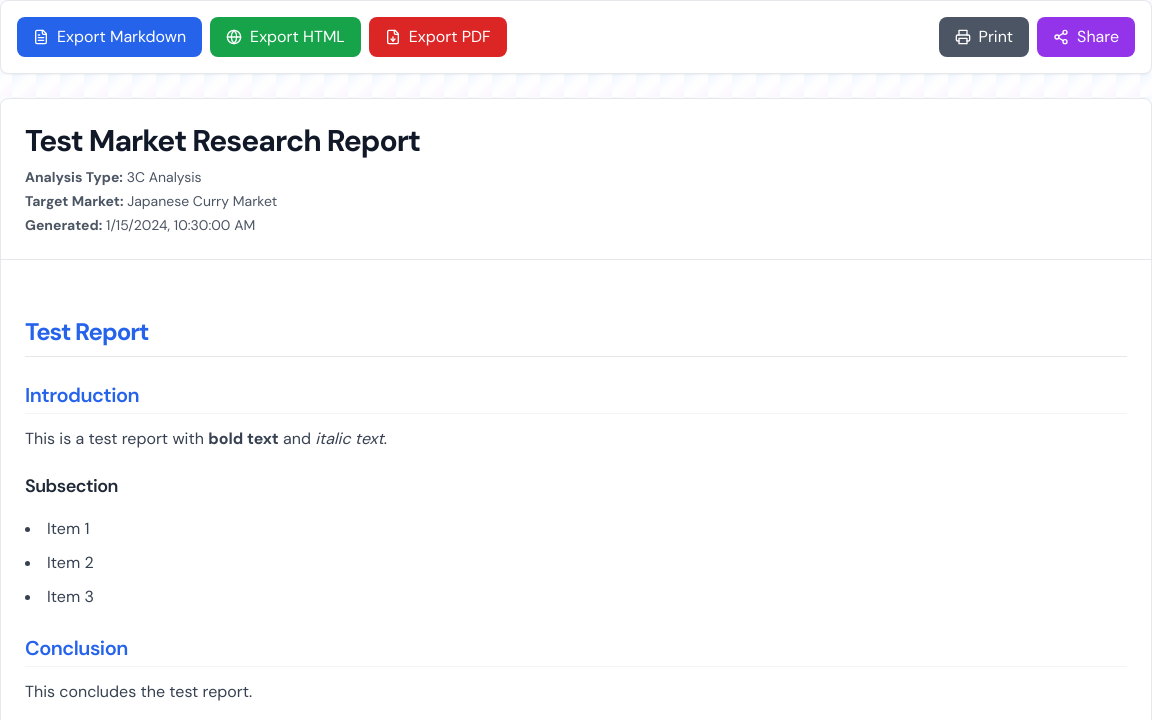
Scenario: ReportViewer › closes share modal when close button is clicked
Click the button "Share": (1086, 37) top-left (1037, 17), bottom-right (1135, 57)
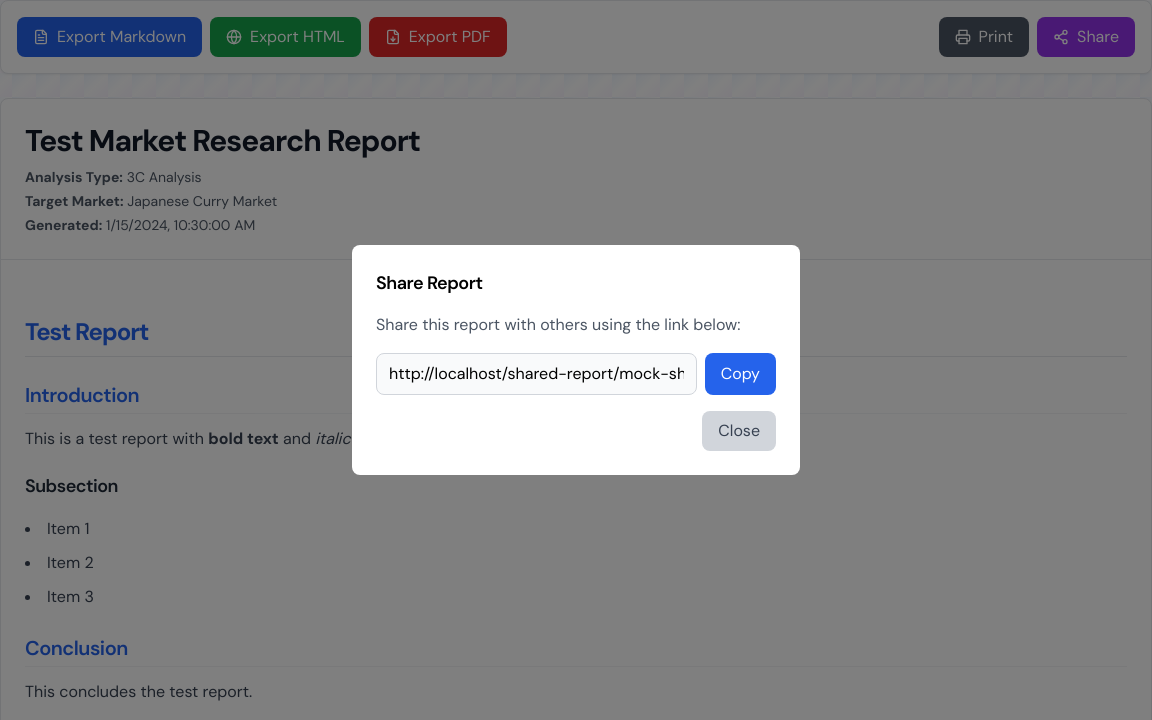
Expected: the heading "Share Report" is shown, top-left (376, 271), bottom-right (482, 295)
Click the button "Close": (739, 431) top-left (702, 411), bottom-right (776, 451)
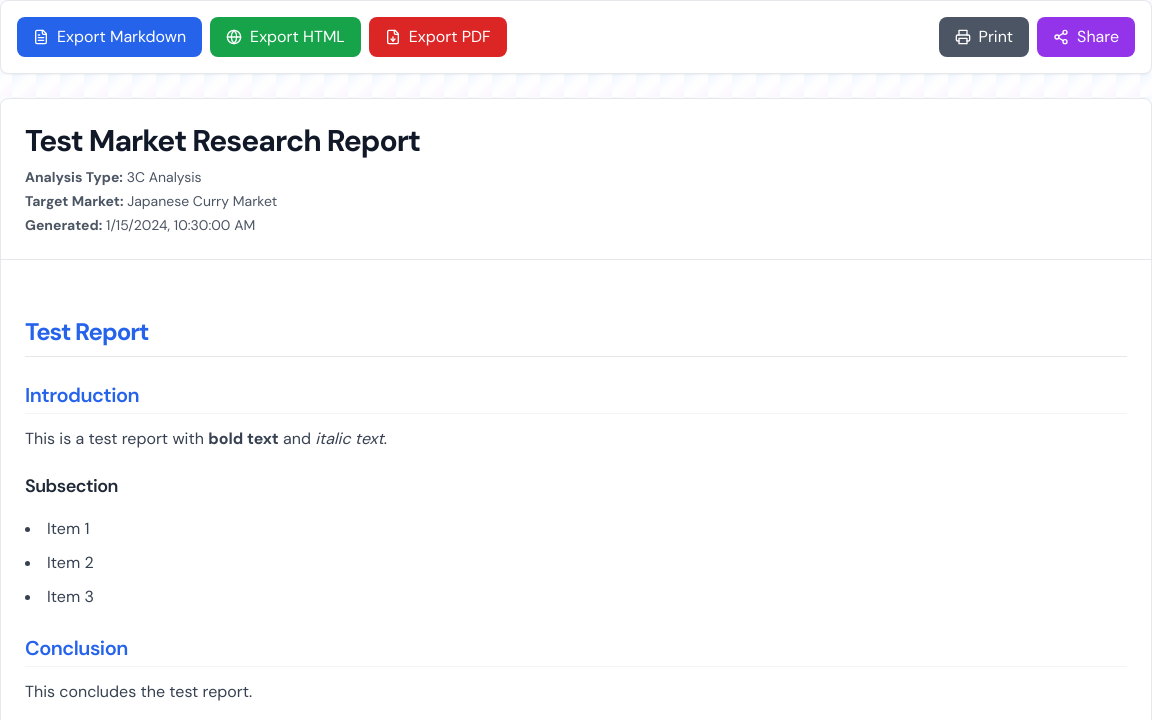
Expected: the heading "Share Report" is gone
